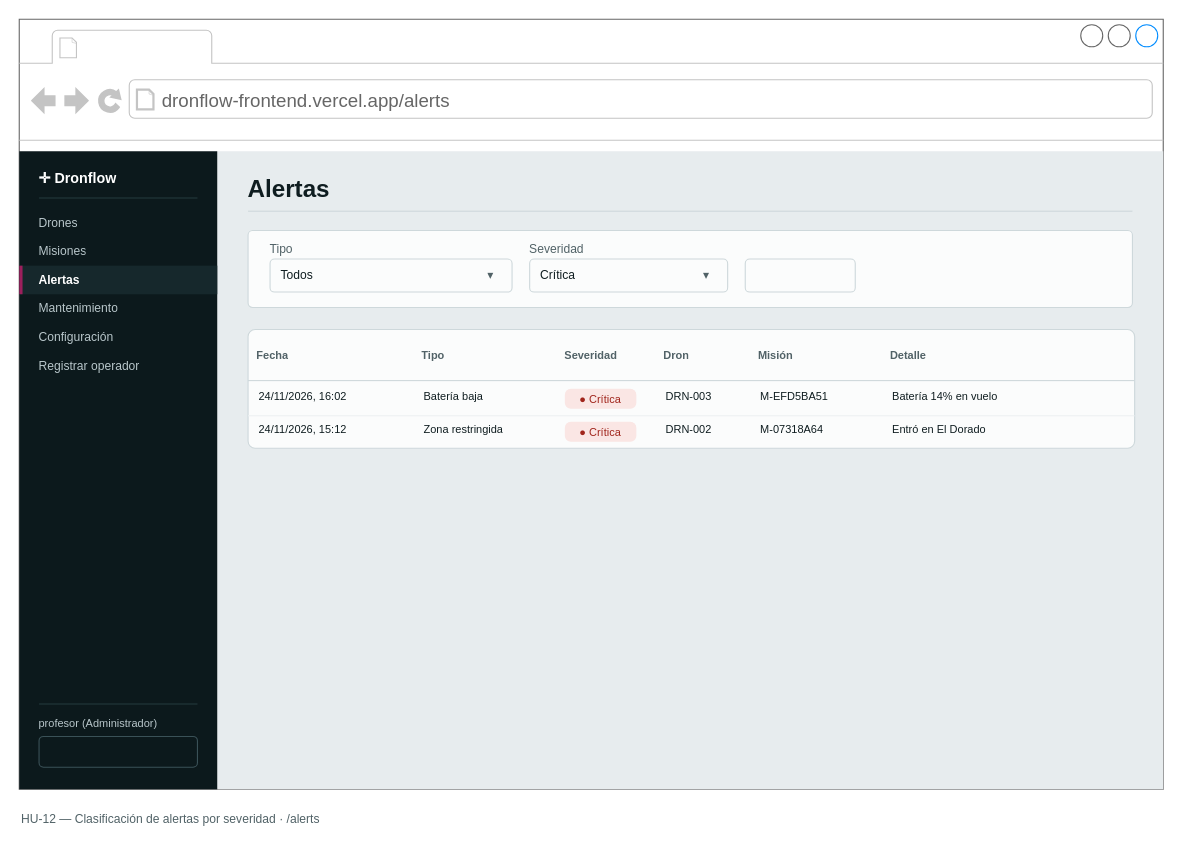
The diagram is 1183 pixels wide and 868 high, and some of its shapes have lost their labels. The shapes that lost their labels are listed below. From the top down, each one's centre as x and y in pixels, then its label:
point (799, 275): Actualizar
point (117, 751): Cerrar sesión
